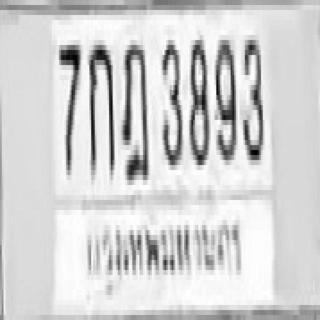A01: (88, 40, 112, 175)
A14: (120, 40, 147, 180)
N03: (241, 32, 263, 158), (161, 38, 181, 162)
N07: (57, 40, 79, 170)
N08: (188, 35, 207, 160)
N09: (214, 35, 235, 160)
P04: (79, 209, 246, 285)
